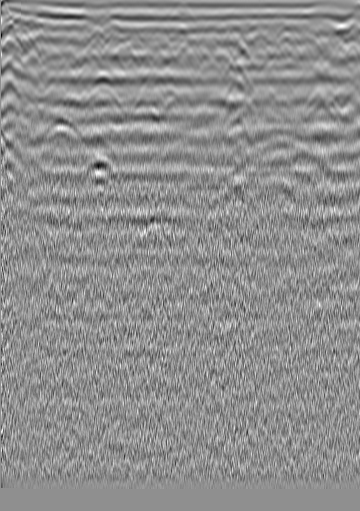가스: (84, 151, 118, 184)
상수: (310, 39, 330, 59)
오수: (21, 35, 41, 55)
우수: (195, 32, 215, 52)
